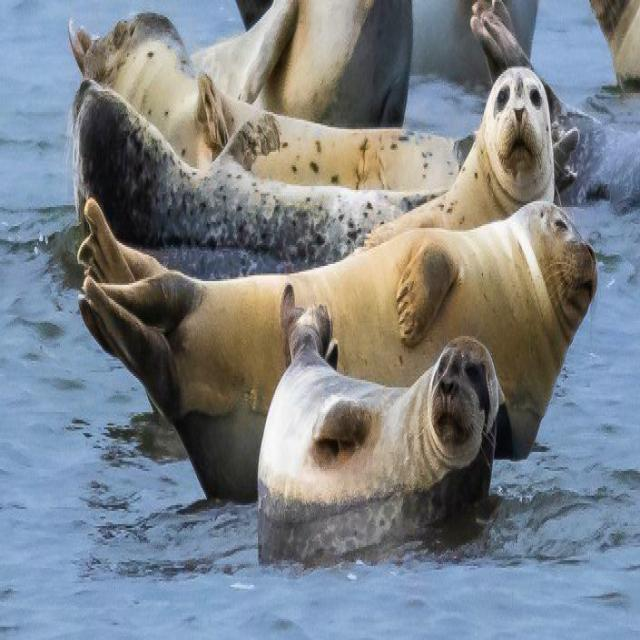seal: (78, 199, 596, 501), (69, 13, 459, 190), (73, 80, 435, 270), (258, 285, 503, 556), (369, 68, 554, 243), (191, 0, 411, 127)
